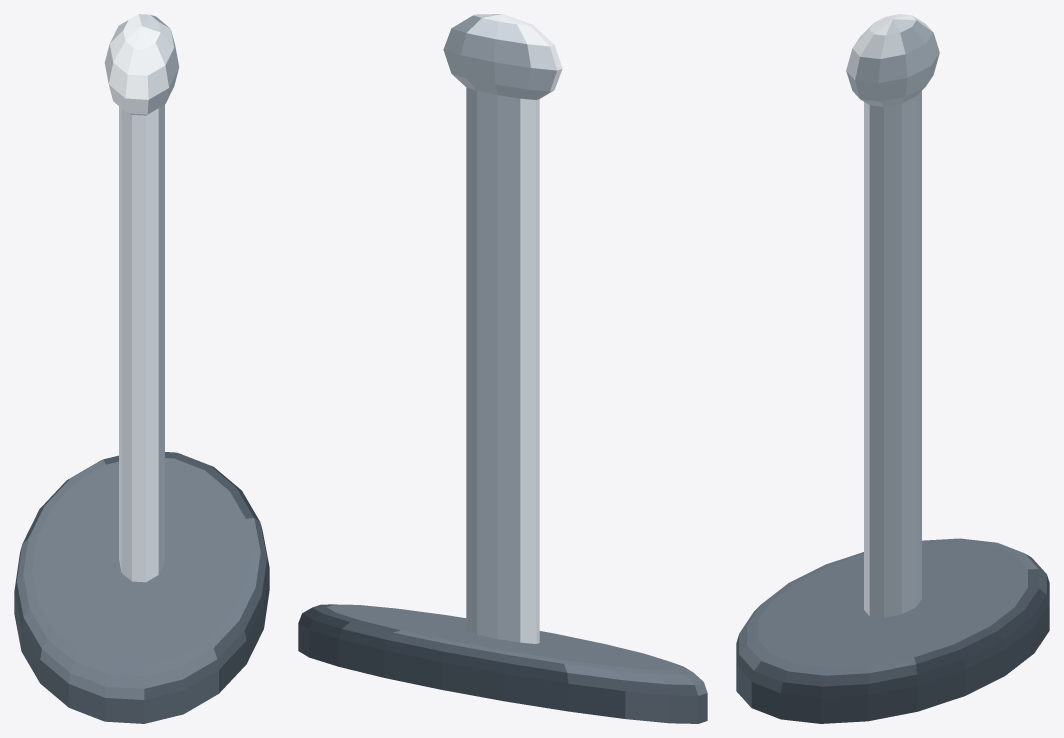
The model's file is Checkpoint_Post.gltf.
The picture shows the model from 3 angles, left to right: view 1: azimuth 30°, elevation 25°; view 2: azimuth 150°, elevation 25°; view 3: azimuth 270°, elevation 25°; orthographic projection. The views are drawn at different scales.
Visible parts, largest first — view 1: Checkpoint_Post_baked; view 2: Checkpoint_Post_baked; view 3: Checkpoint_Post_baked.
Boxes of the visible parts, x1,y1,x2,y2 form: Checkpoint_Post_baked: (14,14,269,723); Checkpoint_Post_baked: (298,14,707,723); Checkpoint_Post_baked: (736,14,1049,723).
Bounding box in the file's own units: 0.4719 × 1.06 × 0.4346.
